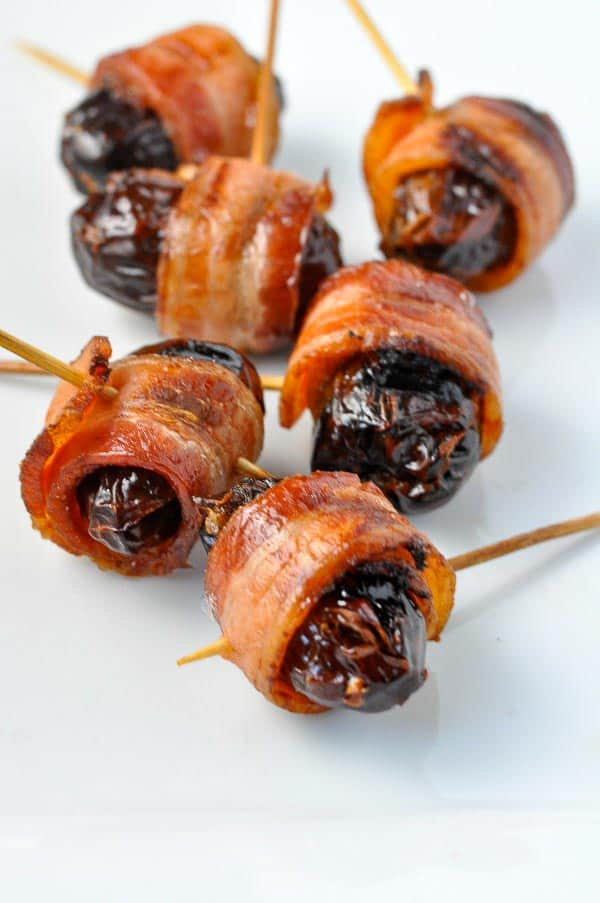bacon: (134, 138, 368, 418), (74, 355, 289, 522), (288, 225, 491, 366)
